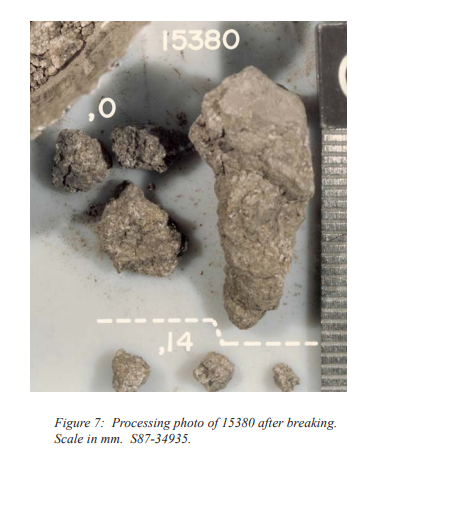Basalt: (188, 61, 300, 322), (55, 87, 194, 290), (90, 327, 306, 391)
